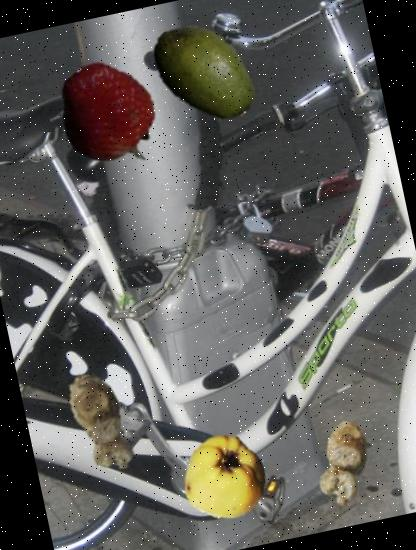Avocado: (136, 5, 272, 141)
Ginger: (37, 358, 166, 486), (291, 412, 394, 515)
Quince: (177, 429, 275, 527)
Strawberry: (42, 50, 176, 184)
